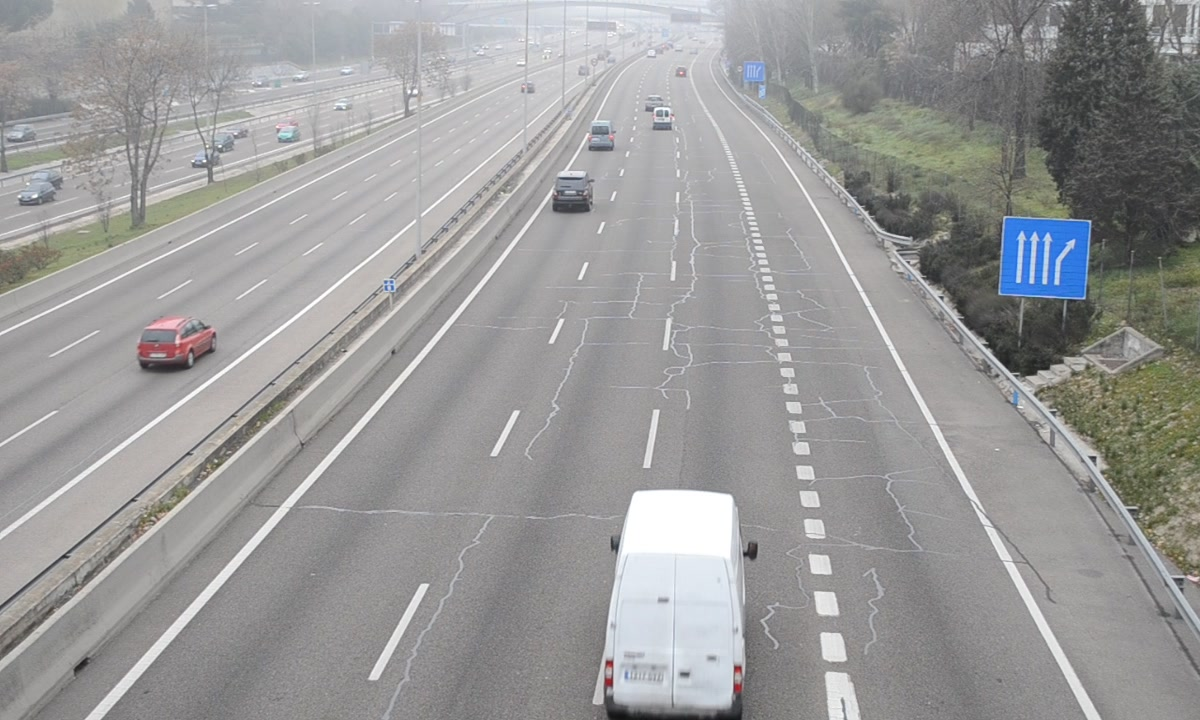car: (552, 171, 594, 209)
van: (603, 489, 748, 717), (587, 118, 615, 148)
